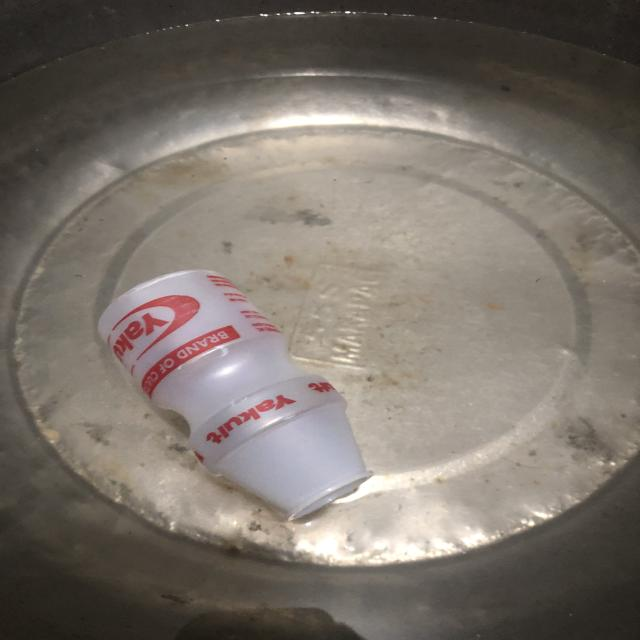Plastic Bottle: (88, 264, 402, 534)
